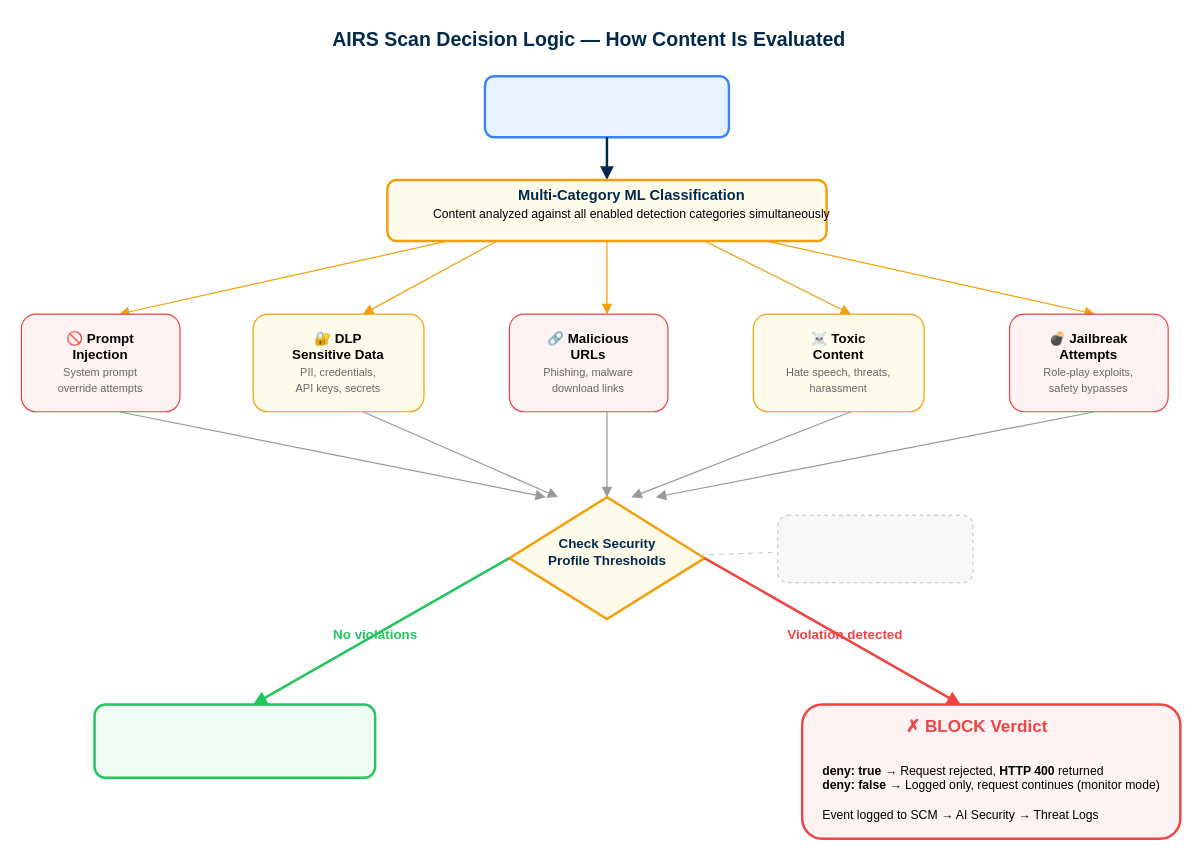
This 1203x860 diagram has some shape labels left out. Each missing label, with the centre of its shape:
"Content Received Prompt (input) or Response (output)" goes at (x=606, y=106).
"Thresholds configured in Strata Cloud Manager (security profile name)" goes at (x=875, y=548).
"✓ ALLOW Content passes to next pipeline stage" goes at (x=234, y=740).
